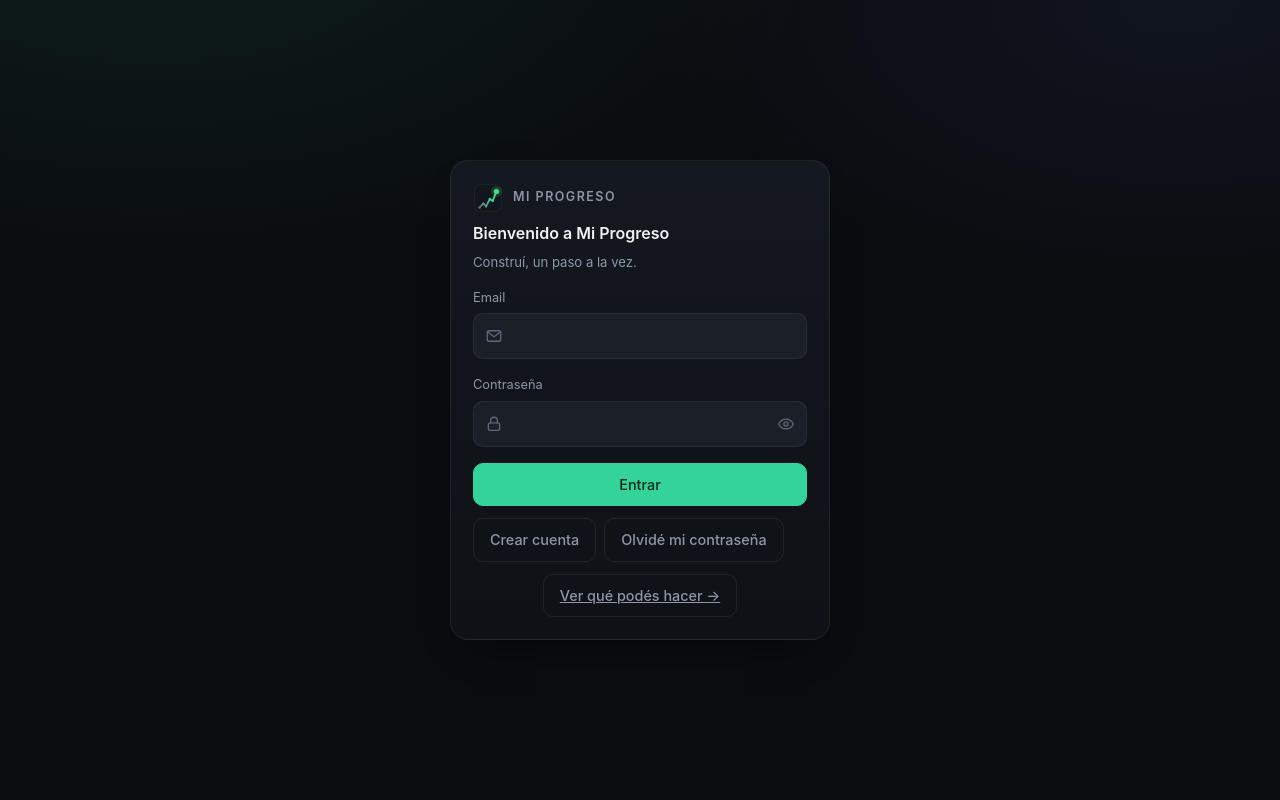
Test: AuthGate › con credenciales incorrectas, muestra un error específico y no desbloquea
Step 1. Type "ulises@walabi.ar" into the field labelled "Email" → (640, 336), box [473,313,807,359]
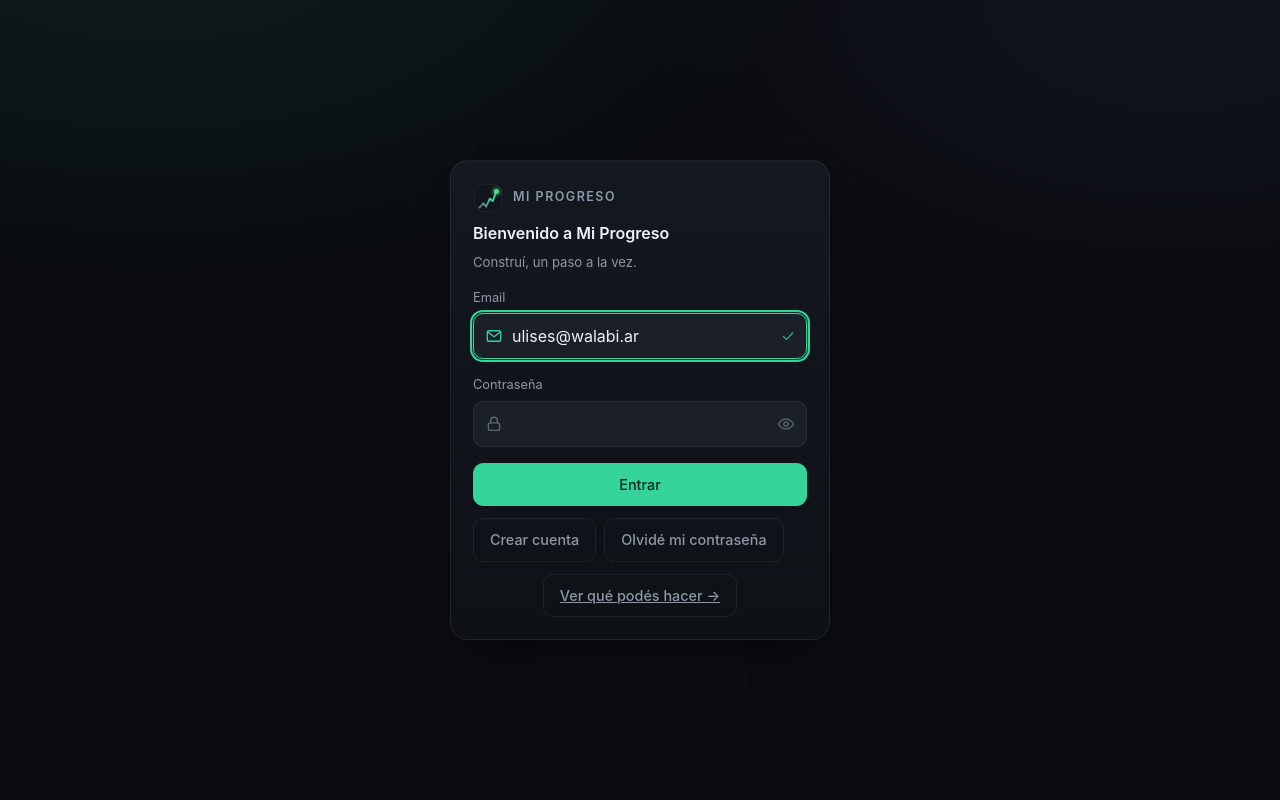
Step 2. Type "malacontrasena" into the password field labelled "Contraseña" → (640, 424), box [473,401,807,447]
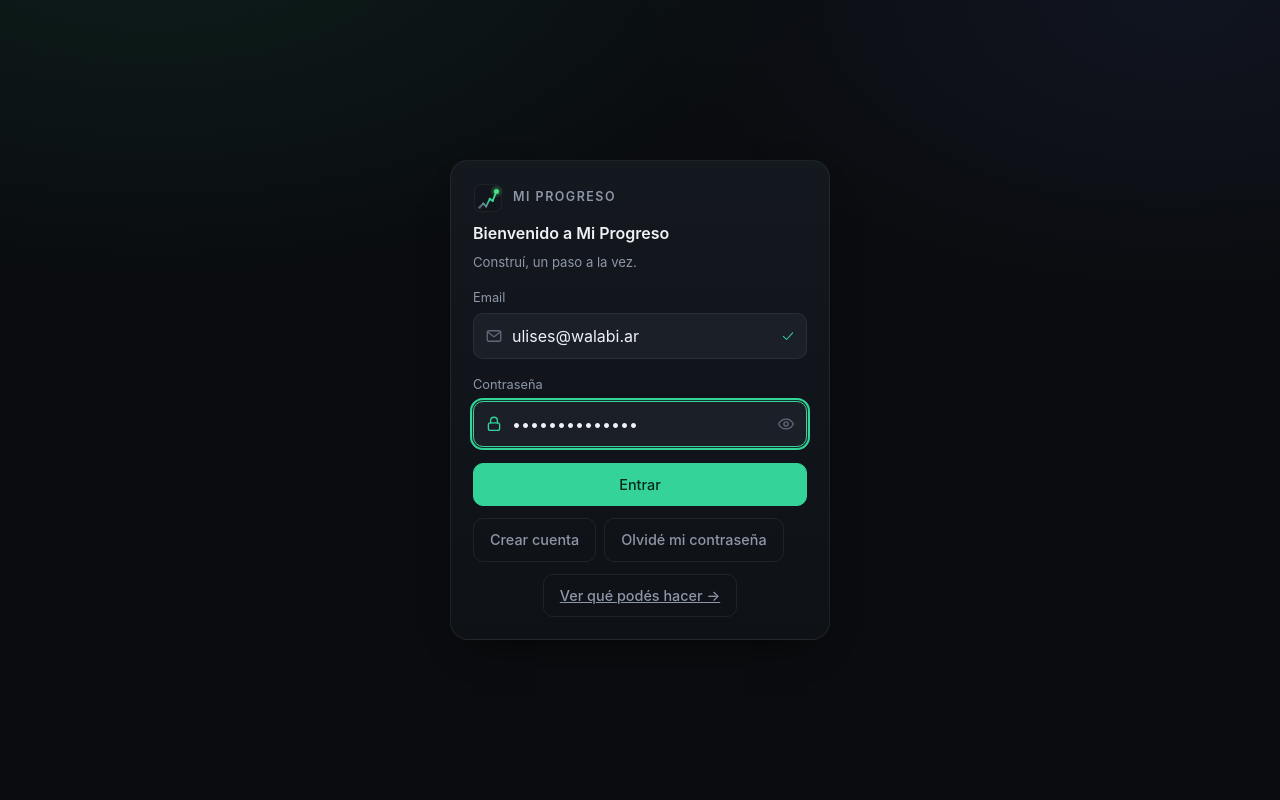
Step 3. Click the button "Entrar" → (640, 484), box [473,463,807,506]
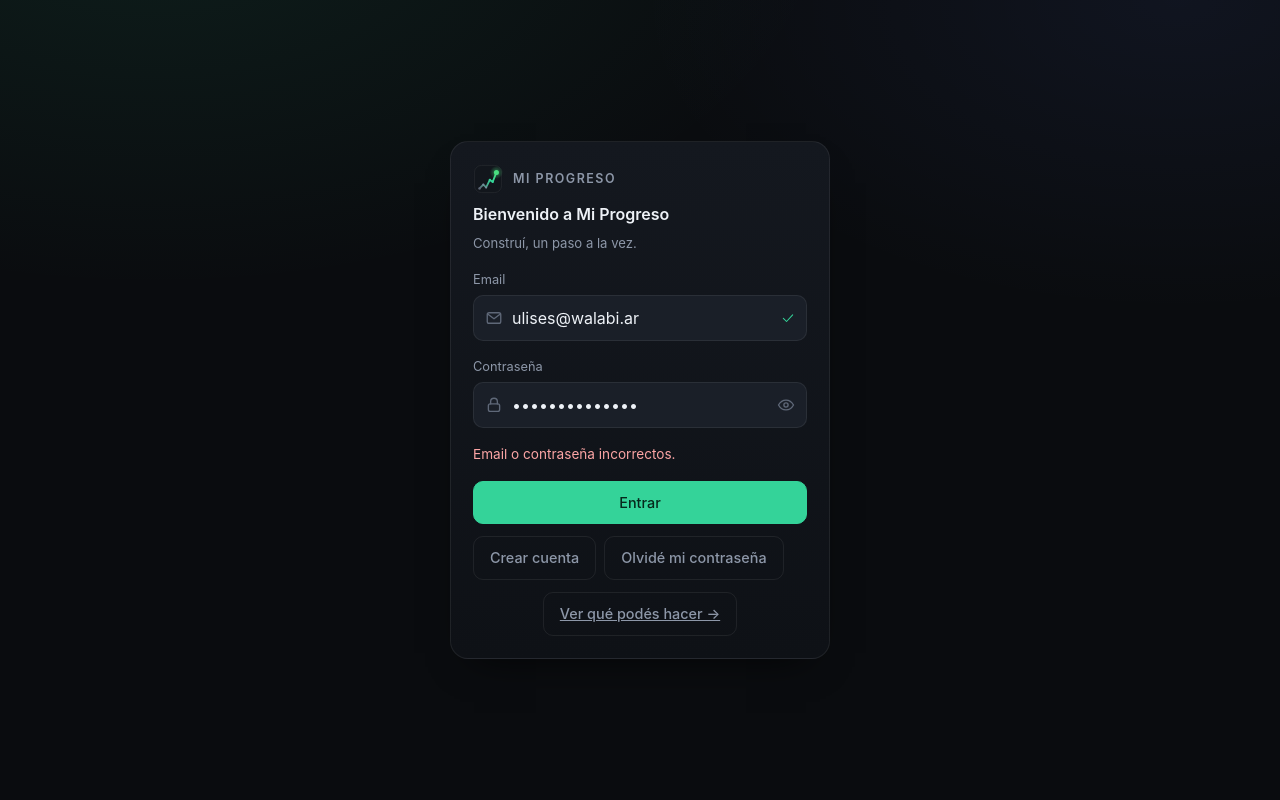
Expected: the message reads "Email o contraseña incorrectos.", [473,446,676,462]
